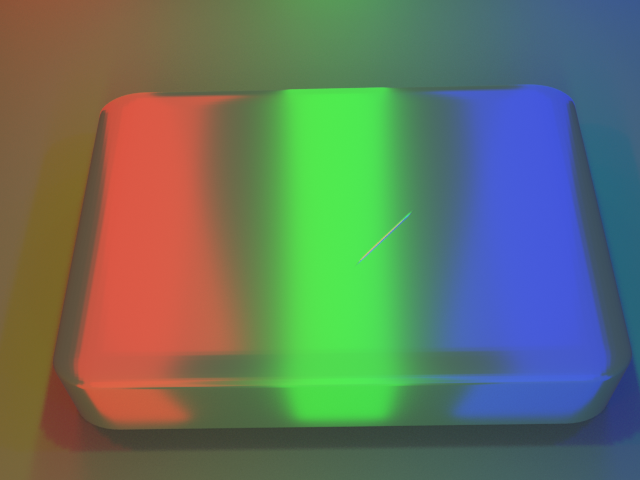scratch: (250, 162, 534, 324)
